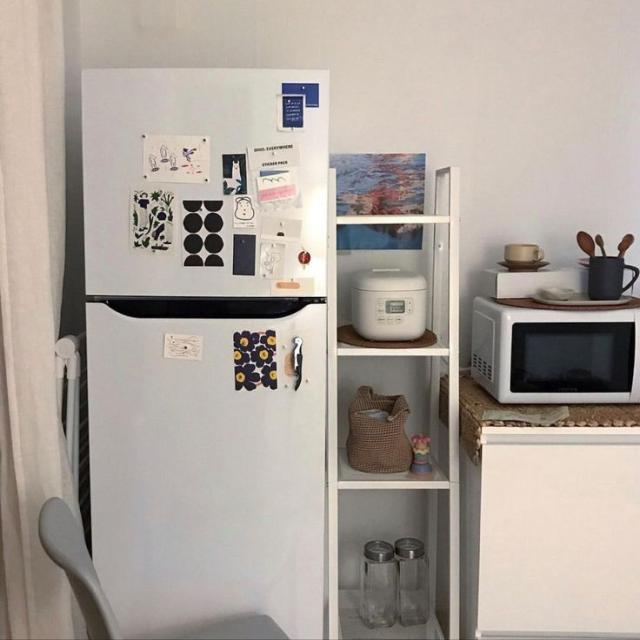obstacle: (85, 67, 328, 638), (328, 165, 462, 639), (37, 495, 290, 639)
